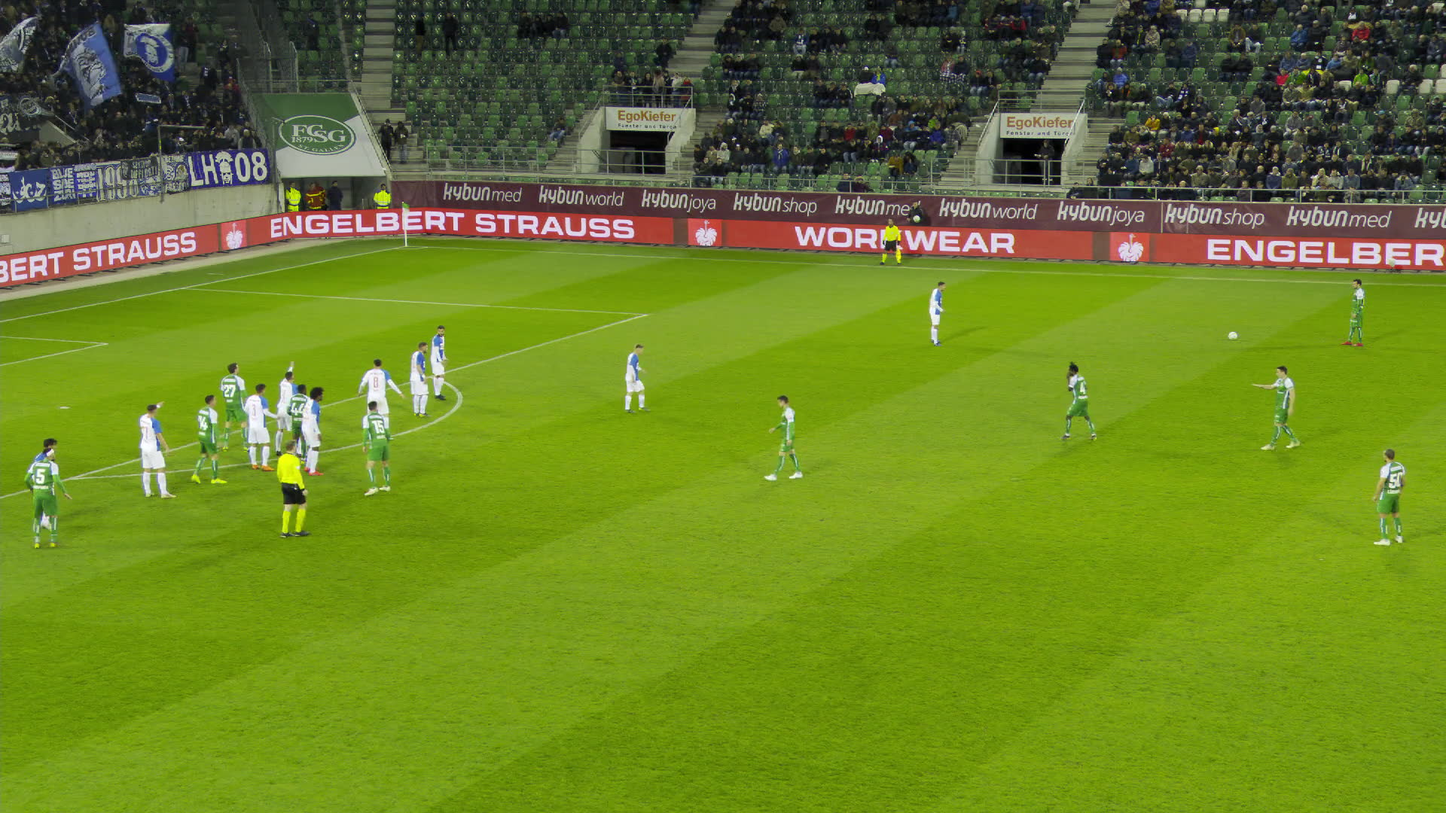ball: (1228, 332, 1236, 338)
player: (23, 446, 72, 548), (1250, 365, 1299, 449), (356, 358, 405, 438), (139, 400, 175, 498), (1371, 447, 1405, 545), (764, 395, 803, 480), (243, 383, 280, 470), (192, 394, 228, 483), (1060, 361, 1096, 441), (362, 400, 392, 495), (275, 361, 303, 456), (219, 364, 249, 452), (35, 437, 58, 530), (301, 385, 323, 474), (286, 383, 310, 464), (624, 343, 650, 413), (410, 342, 432, 418), (1341, 278, 1365, 347), (431, 324, 447, 399), (929, 281, 945, 346)
referee: (277, 440, 313, 537), (880, 217, 900, 265)
